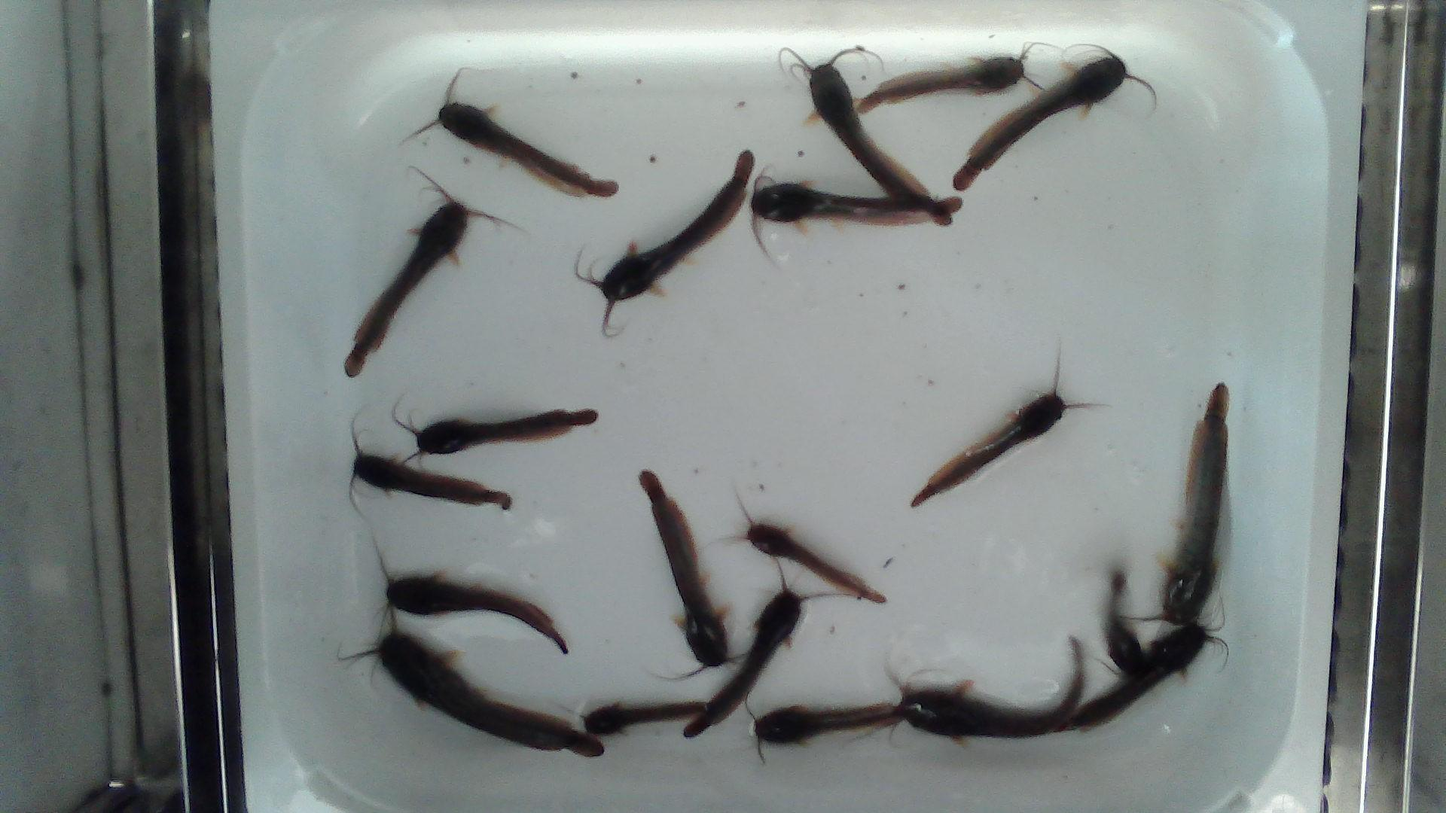lele: (347, 611, 603, 756), (576, 151, 754, 336), (345, 172, 505, 377), (780, 47, 957, 224), (953, 46, 1155, 190), (911, 351, 1091, 507), (683, 559, 834, 736), (409, 71, 618, 197), (1126, 384, 1231, 626), (891, 632, 1087, 752), (640, 470, 740, 680), (375, 552, 568, 652), (714, 493, 885, 604), (1063, 621, 1230, 732), (751, 175, 961, 253), (348, 412, 511, 512), (857, 44, 1055, 114), (397, 409, 597, 465), (745, 702, 904, 763), (584, 703, 712, 735), (1107, 571, 1145, 674)
